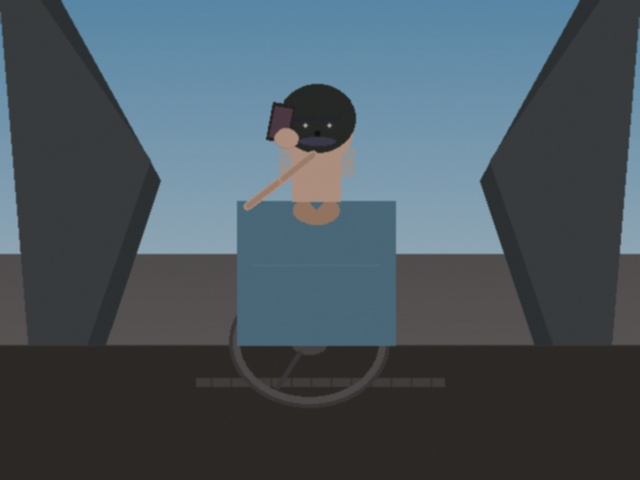phone_usage: (262, 96, 300, 150)
